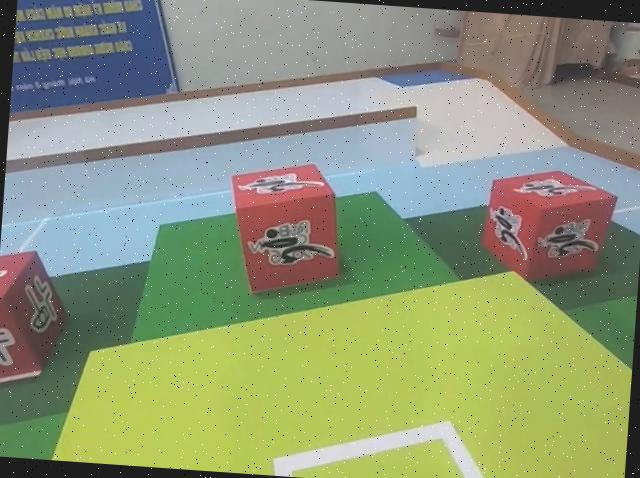R1: (222, 152, 352, 302), (475, 158, 622, 288)
R2 Real: (0, 241, 70, 399)
